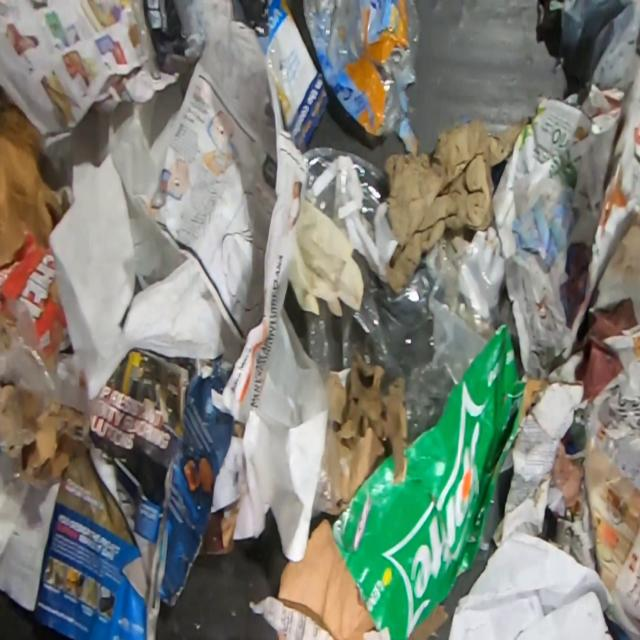cardboard: (331, 323, 528, 640), (490, 378, 589, 550), (276, 516, 376, 640), (0, 231, 72, 372), (408, 604, 452, 640)
soft_plastic: (340, 234, 503, 443), (302, 0, 421, 153), (130, 0, 235, 87), (302, 145, 390, 246), (0, 336, 87, 413), (265, 34, 307, 153), (304, 298, 332, 384), (312, 463, 334, 518)
